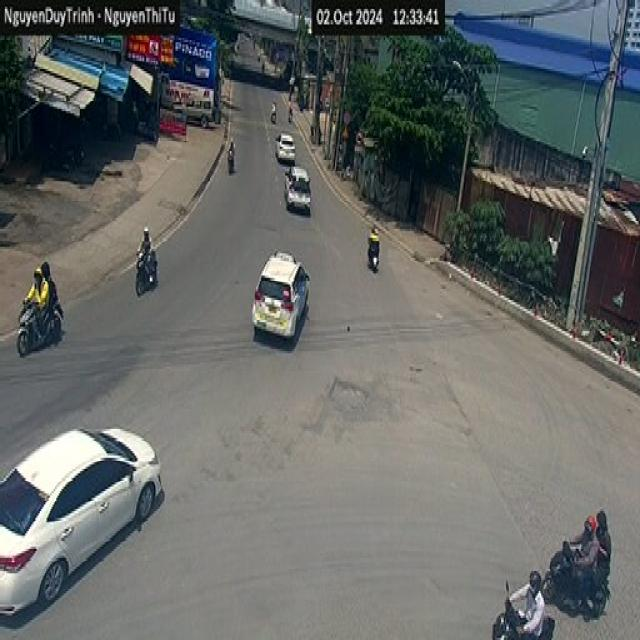car: (0, 424, 162, 617), (251, 249, 310, 340), (284, 164, 311, 213), (275, 131, 295, 162)
motorcycle: (17, 296, 62, 356), (135, 247, 157, 296), (366, 238, 379, 271), (226, 147, 235, 173)
person: (505, 569, 545, 638), (22, 264, 48, 336), (40, 260, 62, 320)
